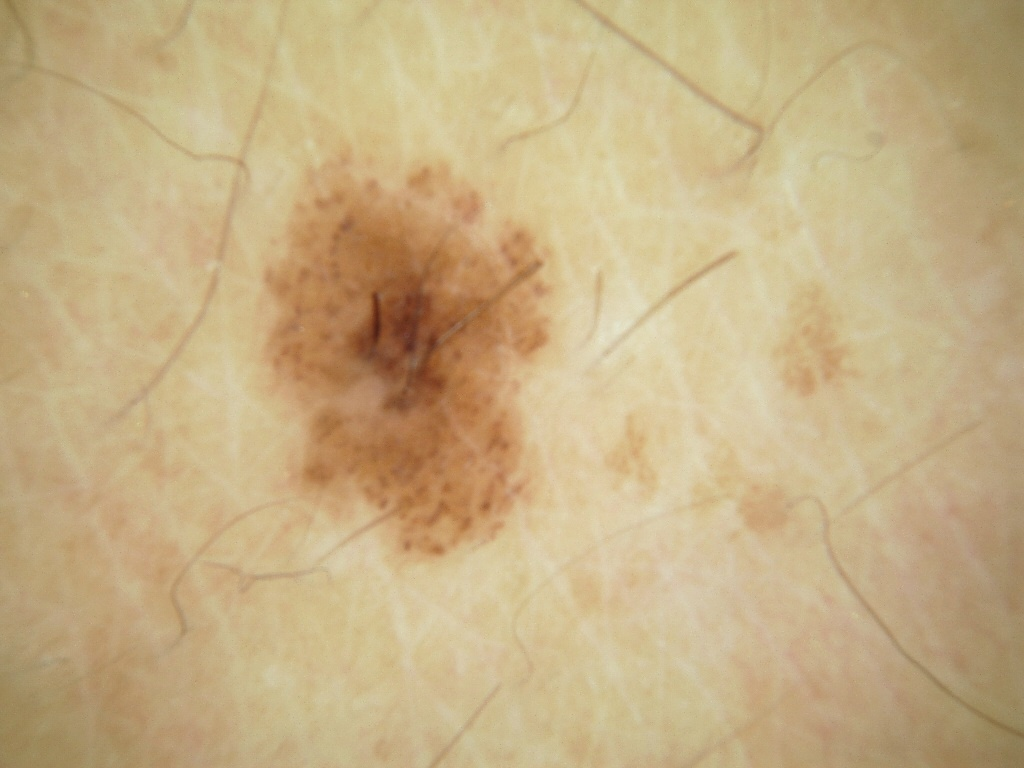Detected Lesion: (251, 134, 568, 572)
